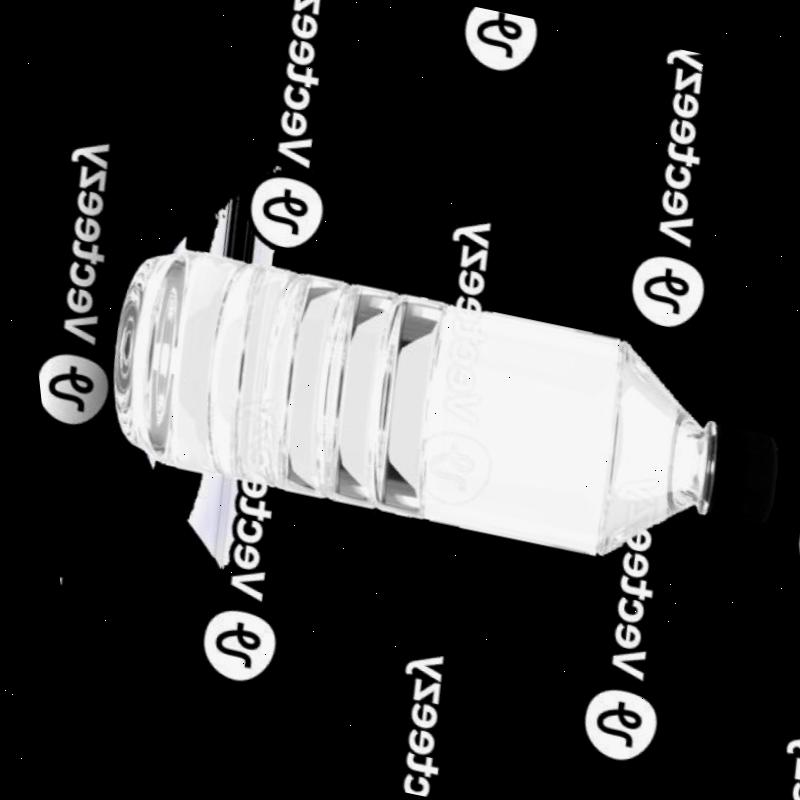botella: (76, 234, 746, 572)
